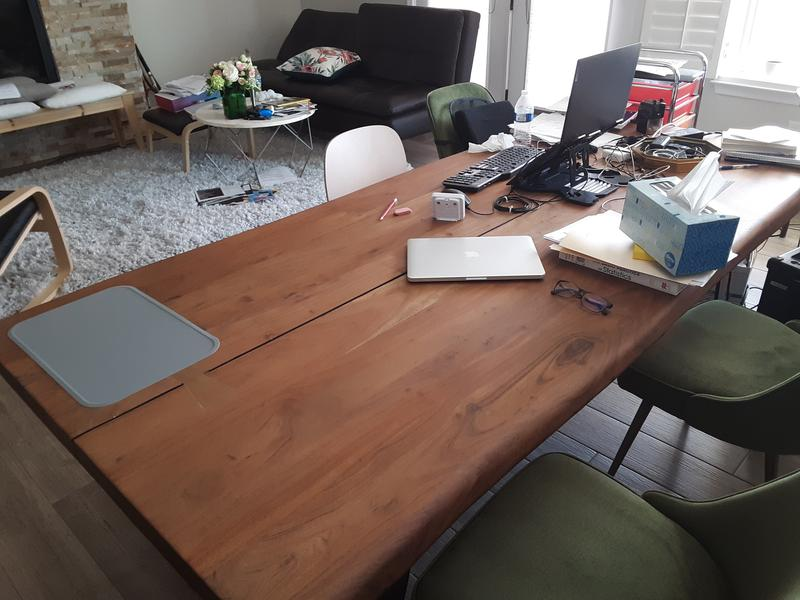glasses: (549, 278, 614, 317)
